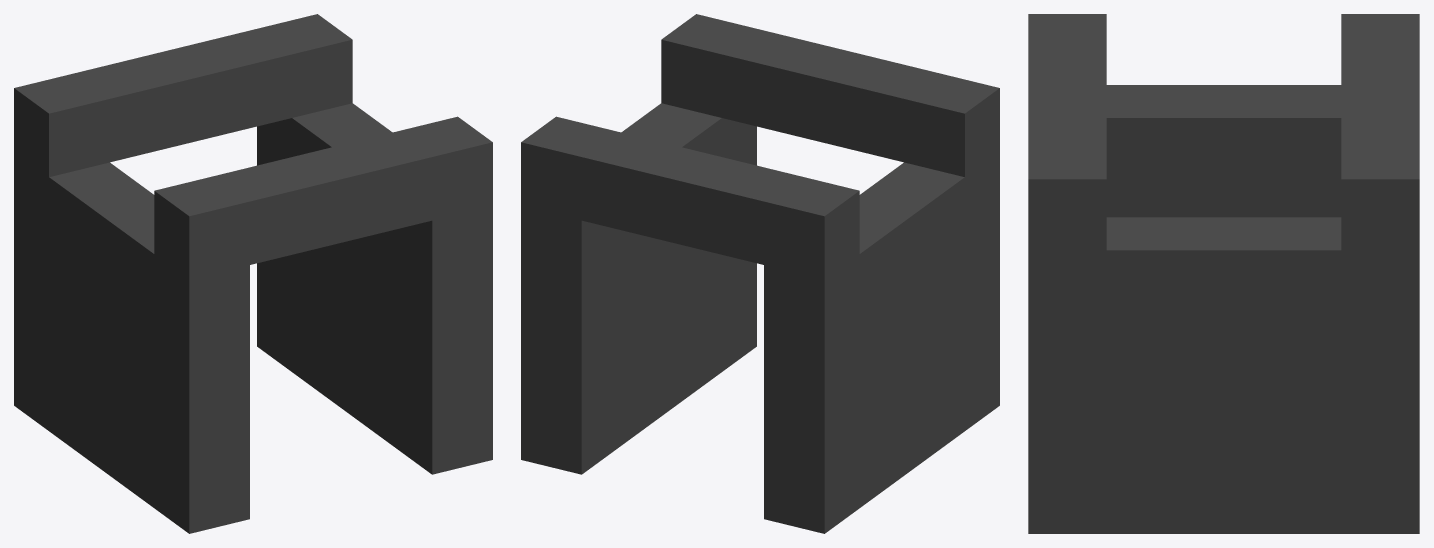
The model's file is Item-2.obj.
3 renders of one model, left to right at view 1: azimuth 30°, elevation 25°; view 2: azimuth 150°, elevation 25°; view 3: azimuth 270°, elevation 25°, orthographic. The views are drawn at different scales.
Parts seen in each view (by area): view 1: Item-2; view 2: Item-2; view 3: Item-2.
Boxes of the visible parts, box(x1,y1,x2,y2) form: Item-2: box(14, 14, 492, 533); Item-2: box(521, 14, 999, 533); Item-2: box(1028, 14, 1419, 533).
Size of the model in its own units: 5 by 5 by 5.
1 material, 1 textured.
